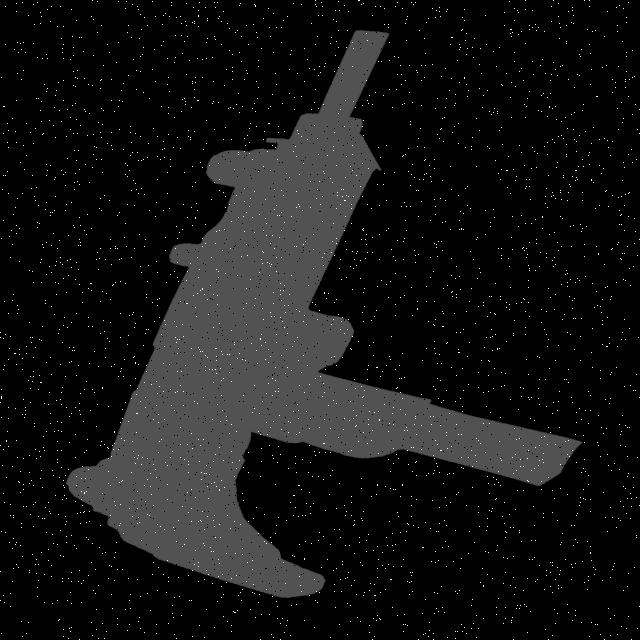firearm: (0, 0, 605, 637)
